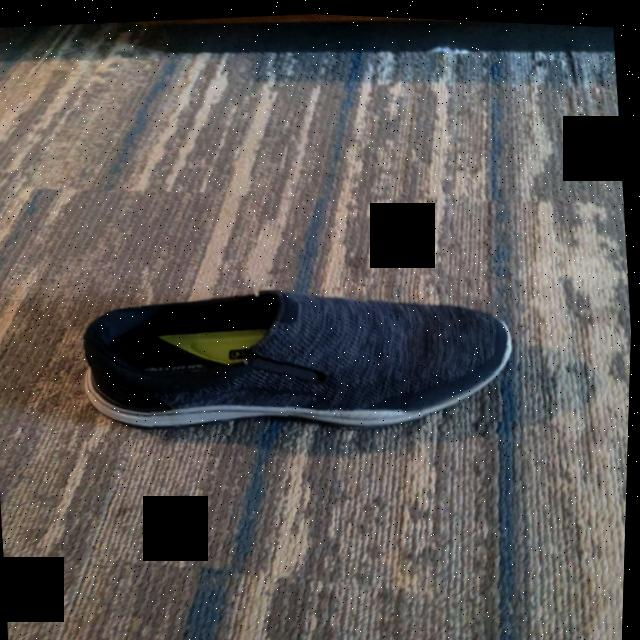shoe: (71, 260, 522, 456)
